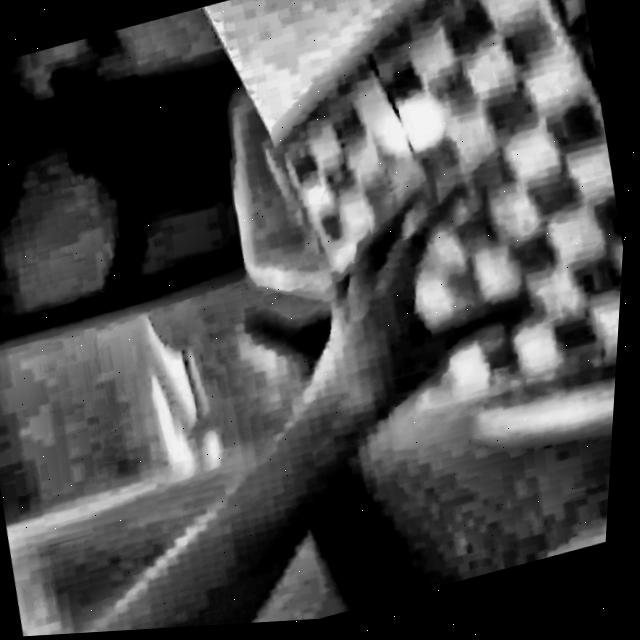chessboard: (268, 0, 623, 444)
